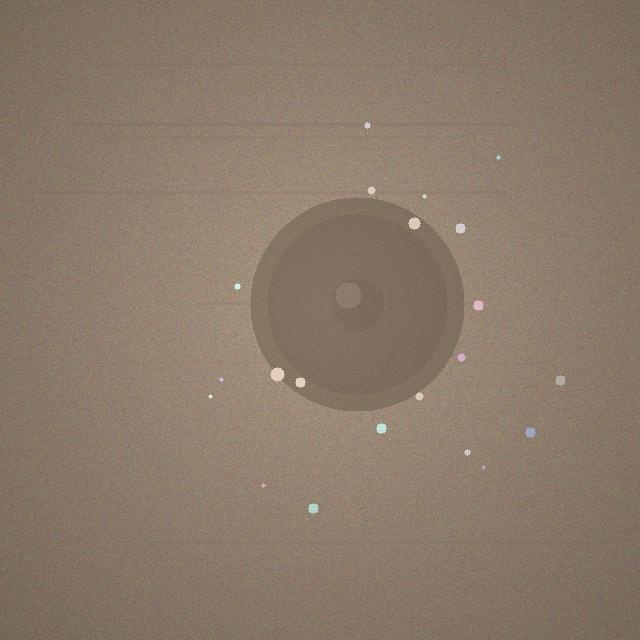overburn: (250, 197, 464, 411)
